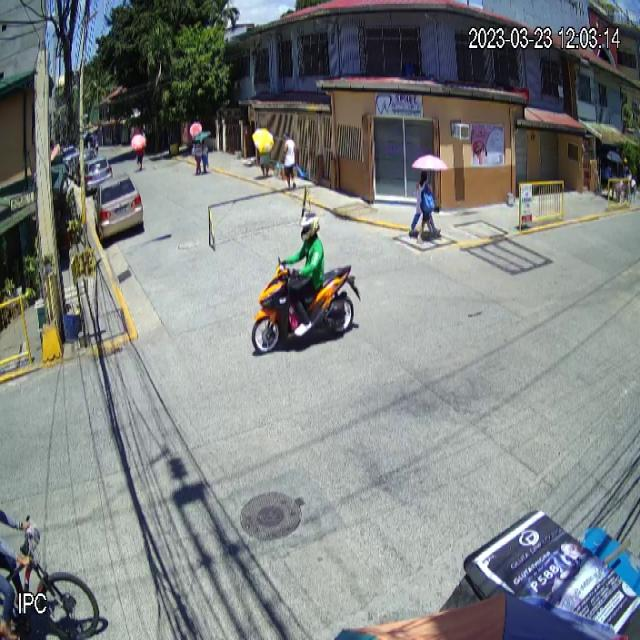Car: (92, 173, 144, 241)
Motorcycle: (252, 255, 362, 352)
